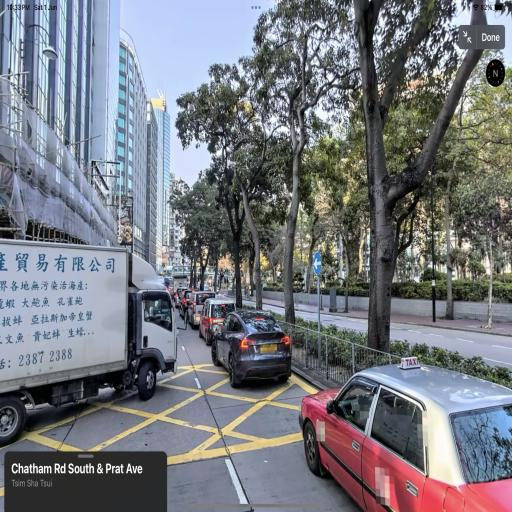Roads: (38, 249, 492, 490)
Trees: (164, 10, 506, 341)
